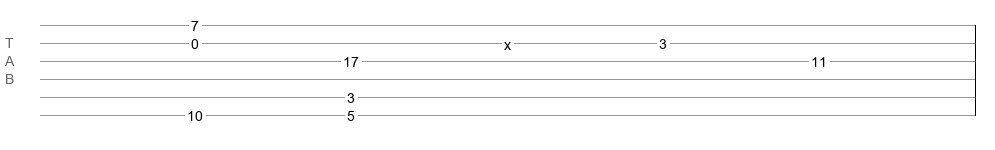0: (191, 36, 199, 46)
10: (187, 108, 203, 118)
11: (811, 54, 827, 64)
17: (343, 54, 359, 64)
3: (347, 90, 355, 100), (659, 36, 667, 46)
5: (347, 108, 355, 118)
7: (191, 18, 199, 28)
x: (504, 37, 511, 45)
